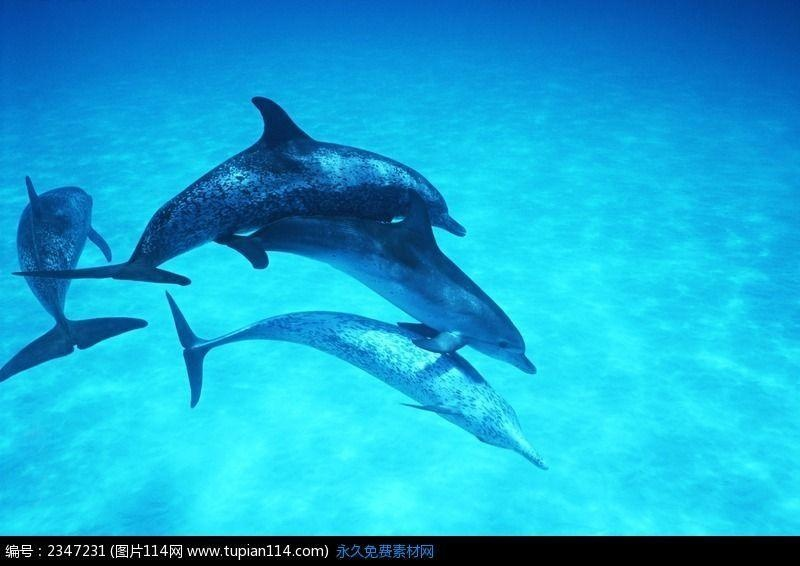fish: (14, 98, 476, 292), (162, 288, 553, 473), (211, 184, 540, 375), (1, 173, 148, 385)
